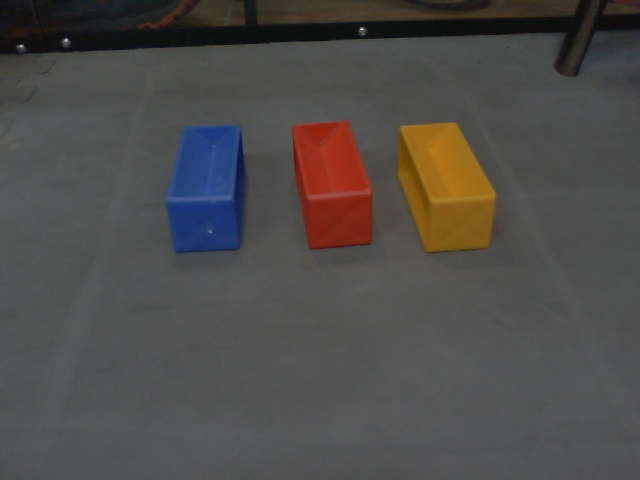BlueSample: (160, 123, 246, 258)
RedSample: (290, 120, 372, 252)
YellowSample: (393, 121, 497, 255)
